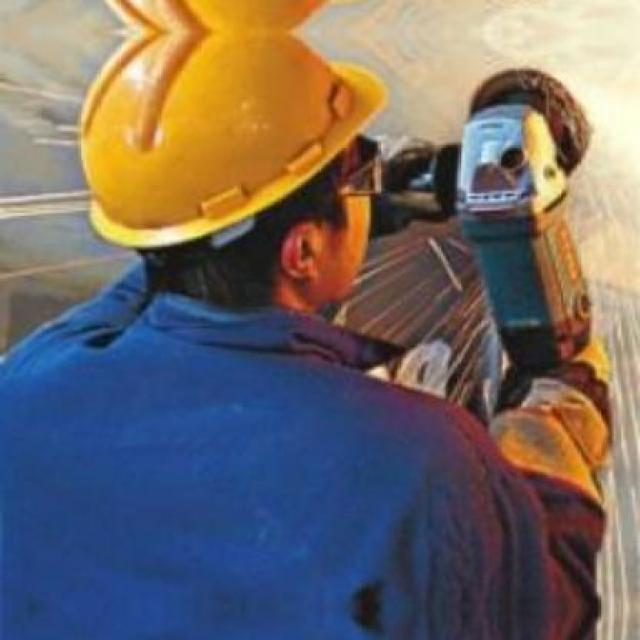hard-hat: (78, 1, 389, 250)
person: (1, 1, 614, 639)
